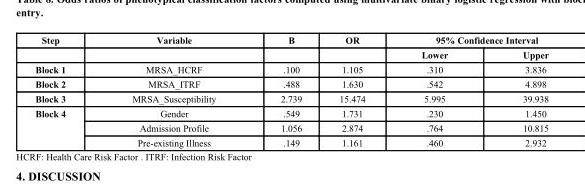table: (34, 34, 548, 147)
table column: (98, 34, 247, 147), (392, 34, 484, 147), (319, 34, 392, 147), (247, 34, 319, 147), (34, 34, 98, 147), (484, 34, 548, 147)
table column header: (34, 34, 548, 61)
table row: (34, 46, 548, 61), (34, 61, 548, 76), (34, 90, 548, 105), (34, 105, 548, 120), (34, 76, 548, 90), (34, 120, 548, 134), (34, 134, 548, 147), (34, 34, 548, 46)
table spanning cell: (98, 34, 247, 61), (34, 105, 98, 147), (319, 34, 392, 61), (247, 34, 319, 61), (392, 34, 548, 46), (34, 34, 98, 61)
